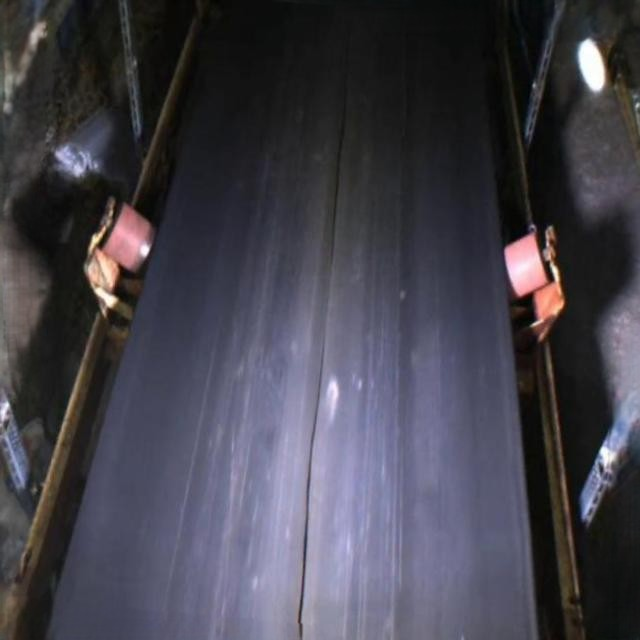Tear: (292, 99, 351, 640)
